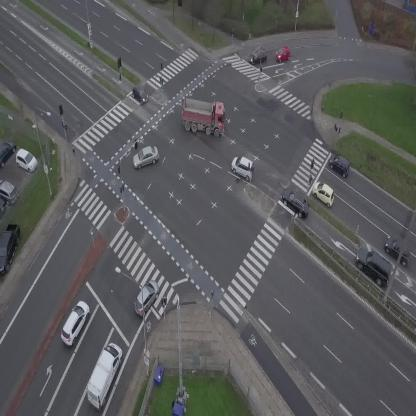car: (348, 243, 400, 290), (57, 298, 95, 348), (128, 277, 164, 319), (277, 183, 316, 221), (380, 235, 416, 267), (308, 178, 340, 209), (228, 153, 259, 181), (129, 144, 161, 170), (325, 151, 354, 178), (128, 84, 150, 106), (247, 48, 269, 65), (273, 45, 292, 62)
lorry: (81, 340, 127, 411), (180, 97, 228, 138)
